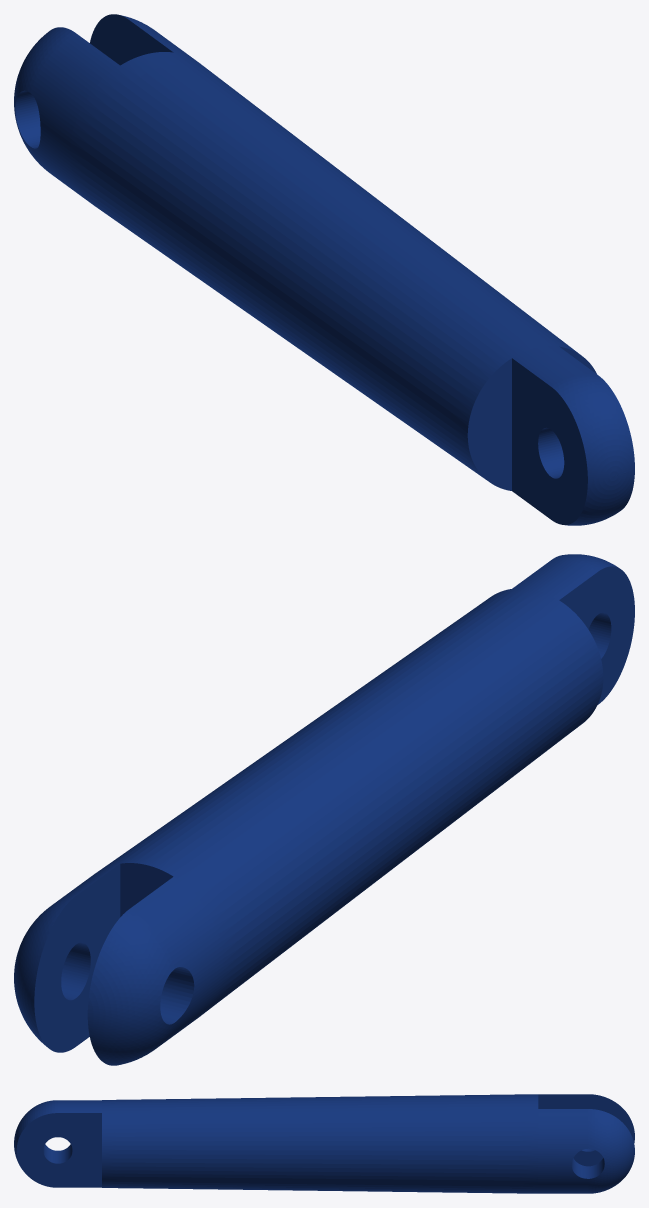
3 renders of one model, top to bottom at view 1: azimuth 30°, elevation 25°; view 2: azimuth 150°, elevation 25°; view 3: azimuth 270°, elevation 25°, orthographic. The views are drawn at different scales.
Visible parts, largest first — view 1: node; view 2: node; view 3: node.
Part boxes in pixels (x1,y1,x2,y2): node: [14, 14, 634, 525]; node: [14, 554, 634, 1065]; node: [14, 1094, 634, 1193].
Bounding box in the file's own units: 0.0685 × 0.0685 × 0.4268.
